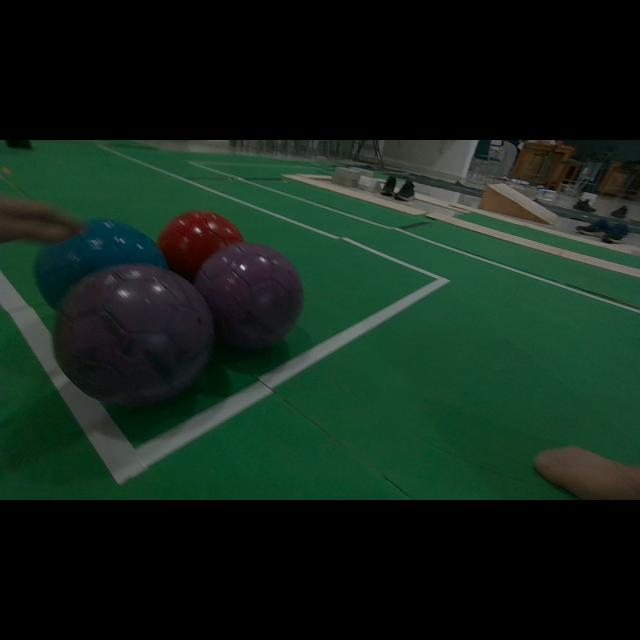B: (35, 220, 167, 309)
P: (55, 264, 214, 405), (194, 242, 304, 349)
R: (158, 211, 245, 282)
